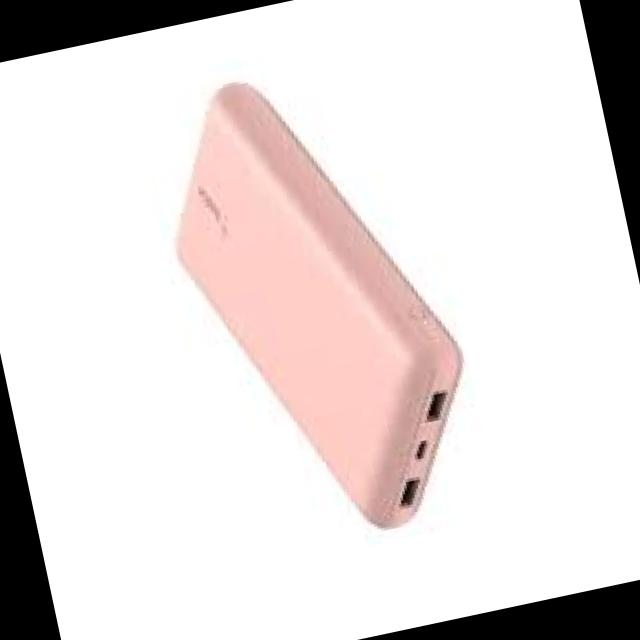power_bank: (129, 42, 501, 566)
